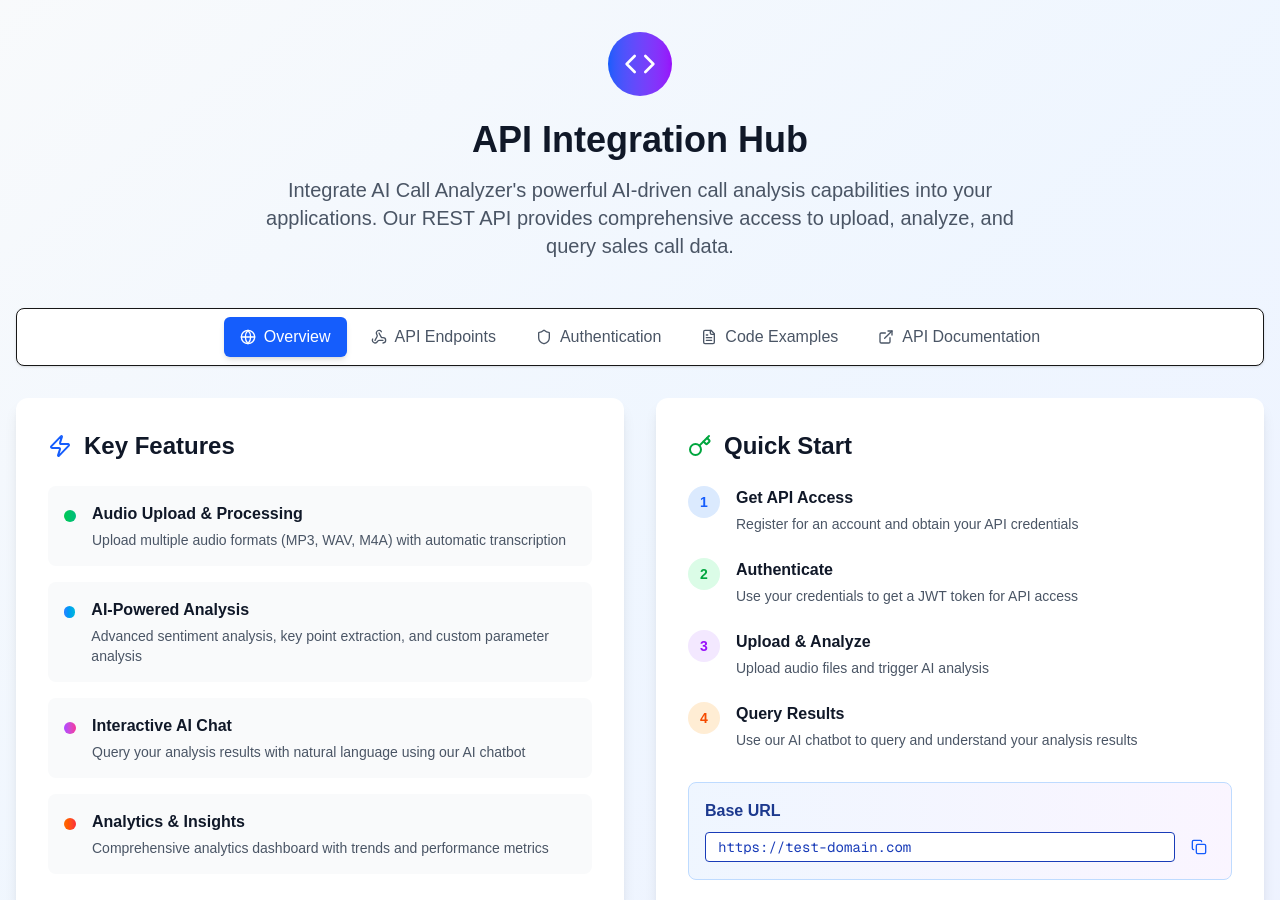
IntegrationsPage › switches to code examples tab
Click the button "Code Examples": (770, 337) [685, 317, 854, 357]
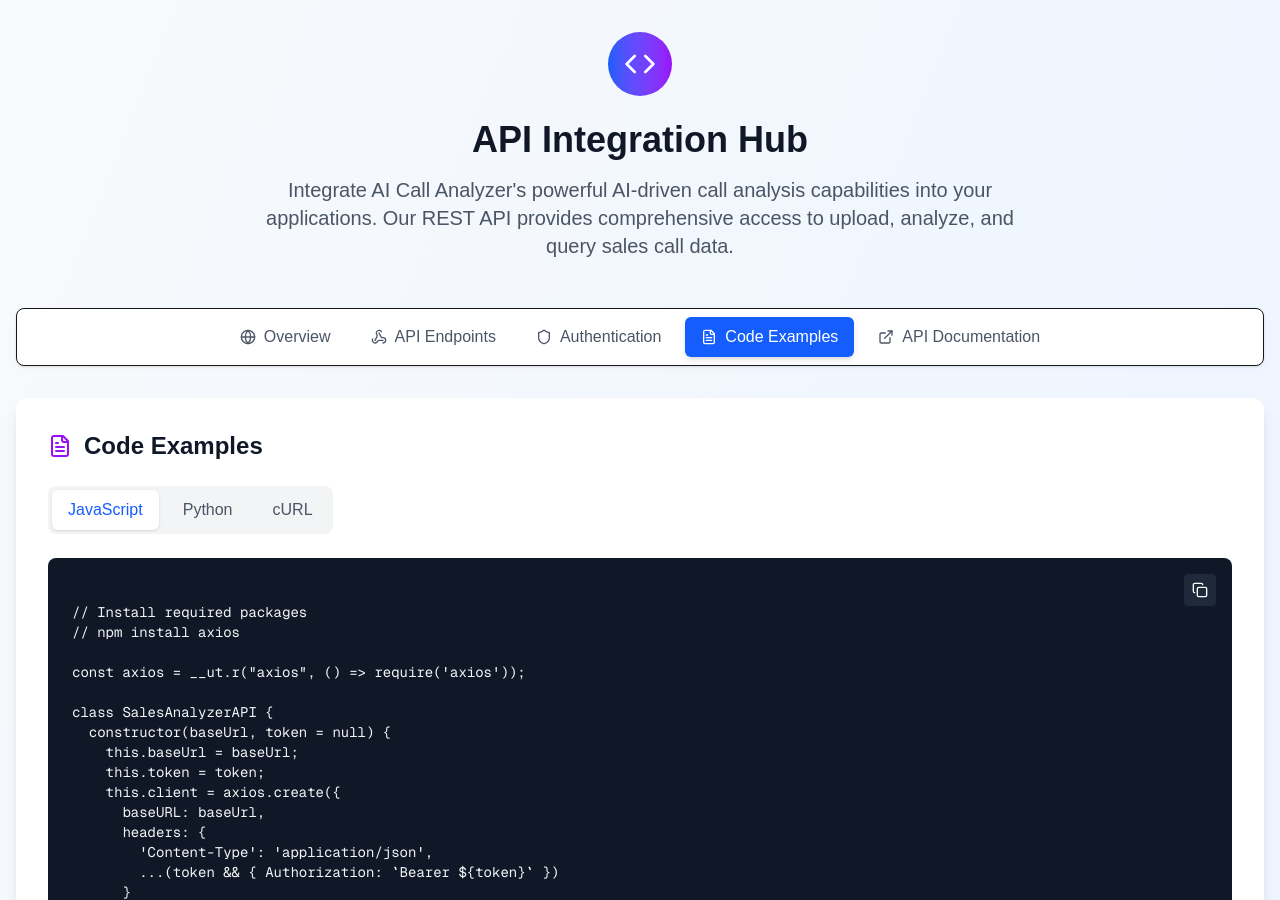
Expected: the button "JavaScript" is shown, [52, 490, 159, 530]
Expected: the button "Python" is shown, [167, 490, 248, 530]
Expected: the button "cURL" is shown, [256, 490, 328, 530]
